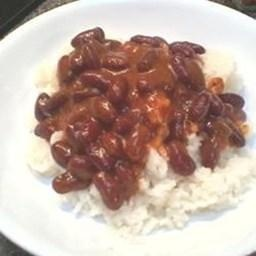background: (9, 10, 102, 94)
